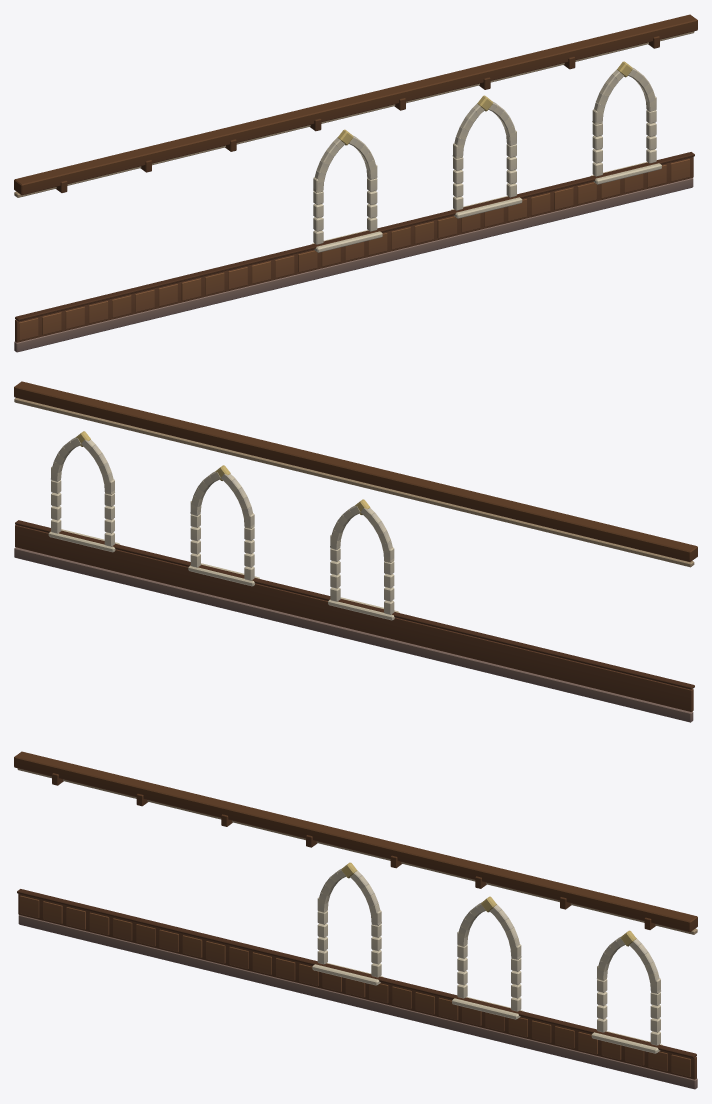
The model's file is court_trim.glb.
3 views of the same model, one above another, from view 1: azimuth 30°, elevation 25°; view 2: azimuth 150°, elevation 25°; view 3: azimuth 330°, elevation 25° (orthographic).
Visible parts, largest first — view 1: court_trim; view 2: court_trim; view 3: court_trim.
Part boxes in pixels (<box>): court_trim: <box>14,14,697,352</box>; court_trim: <box>14,381,697,722</box>; court_trim: <box>14,751,697,1089</box>.
Bounding box in the file's own units: 32 × 7.75 × 0.75.
